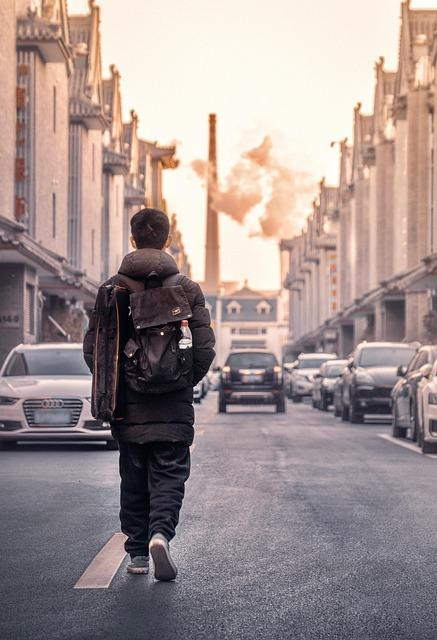Non_Gorille: (12, 114, 339, 640)
